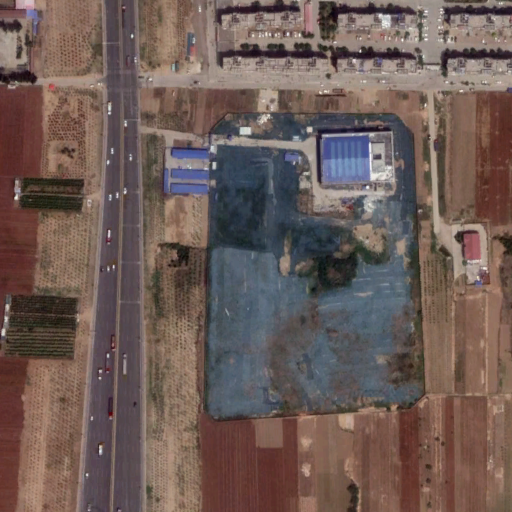cw: (204, 112, 426, 418)
